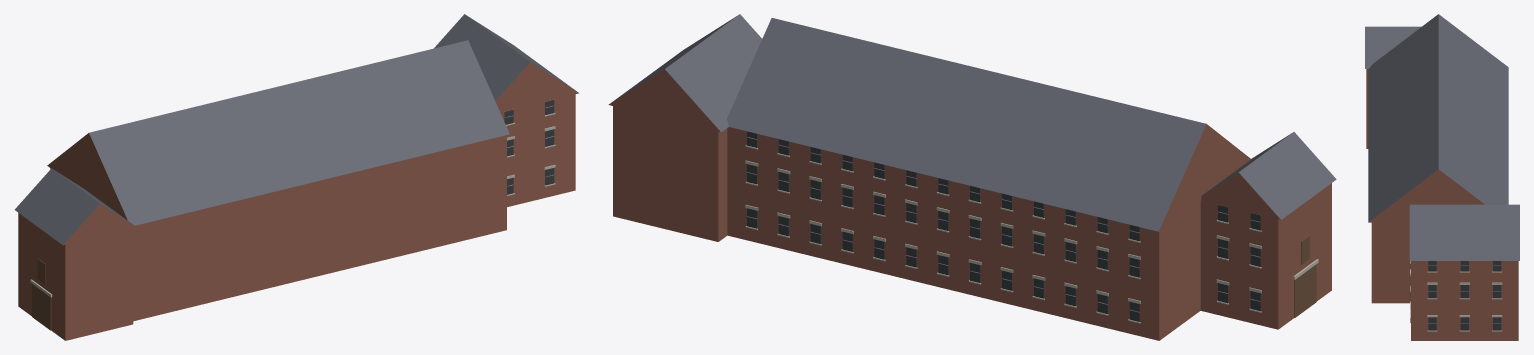
File: livery_2129_indiana__draft_1904.glb
3 renders of one model, left to right at view 1: azimuth 30°, elevation 25°; view 2: azimuth 150°, elevation 25°; view 3: azimuth 270°, elevation 25°, orthographic. The views are drawn at different scales.
Visible parts, largest first — view 1: livery_2129_indiana__draft_1904; view 2: livery_2129_indiana__draft_1904; view 3: livery_2129_indiana__draft_1904.
Part boxes in pixels (<box>): livery_2129_indiana__draft_1904: <box>14,14,578,340</box>; livery_2129_indiana__draft_1904: <box>608,14,1336,340</box>; livery_2129_indiana__draft_1904: <box>1365,14,1519,340</box>.
Size of the model in its own units: 50.1 by 14.15 by 14.74.
